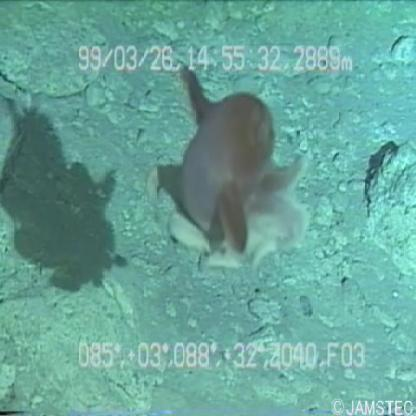Bio: (151, 59, 316, 278)
